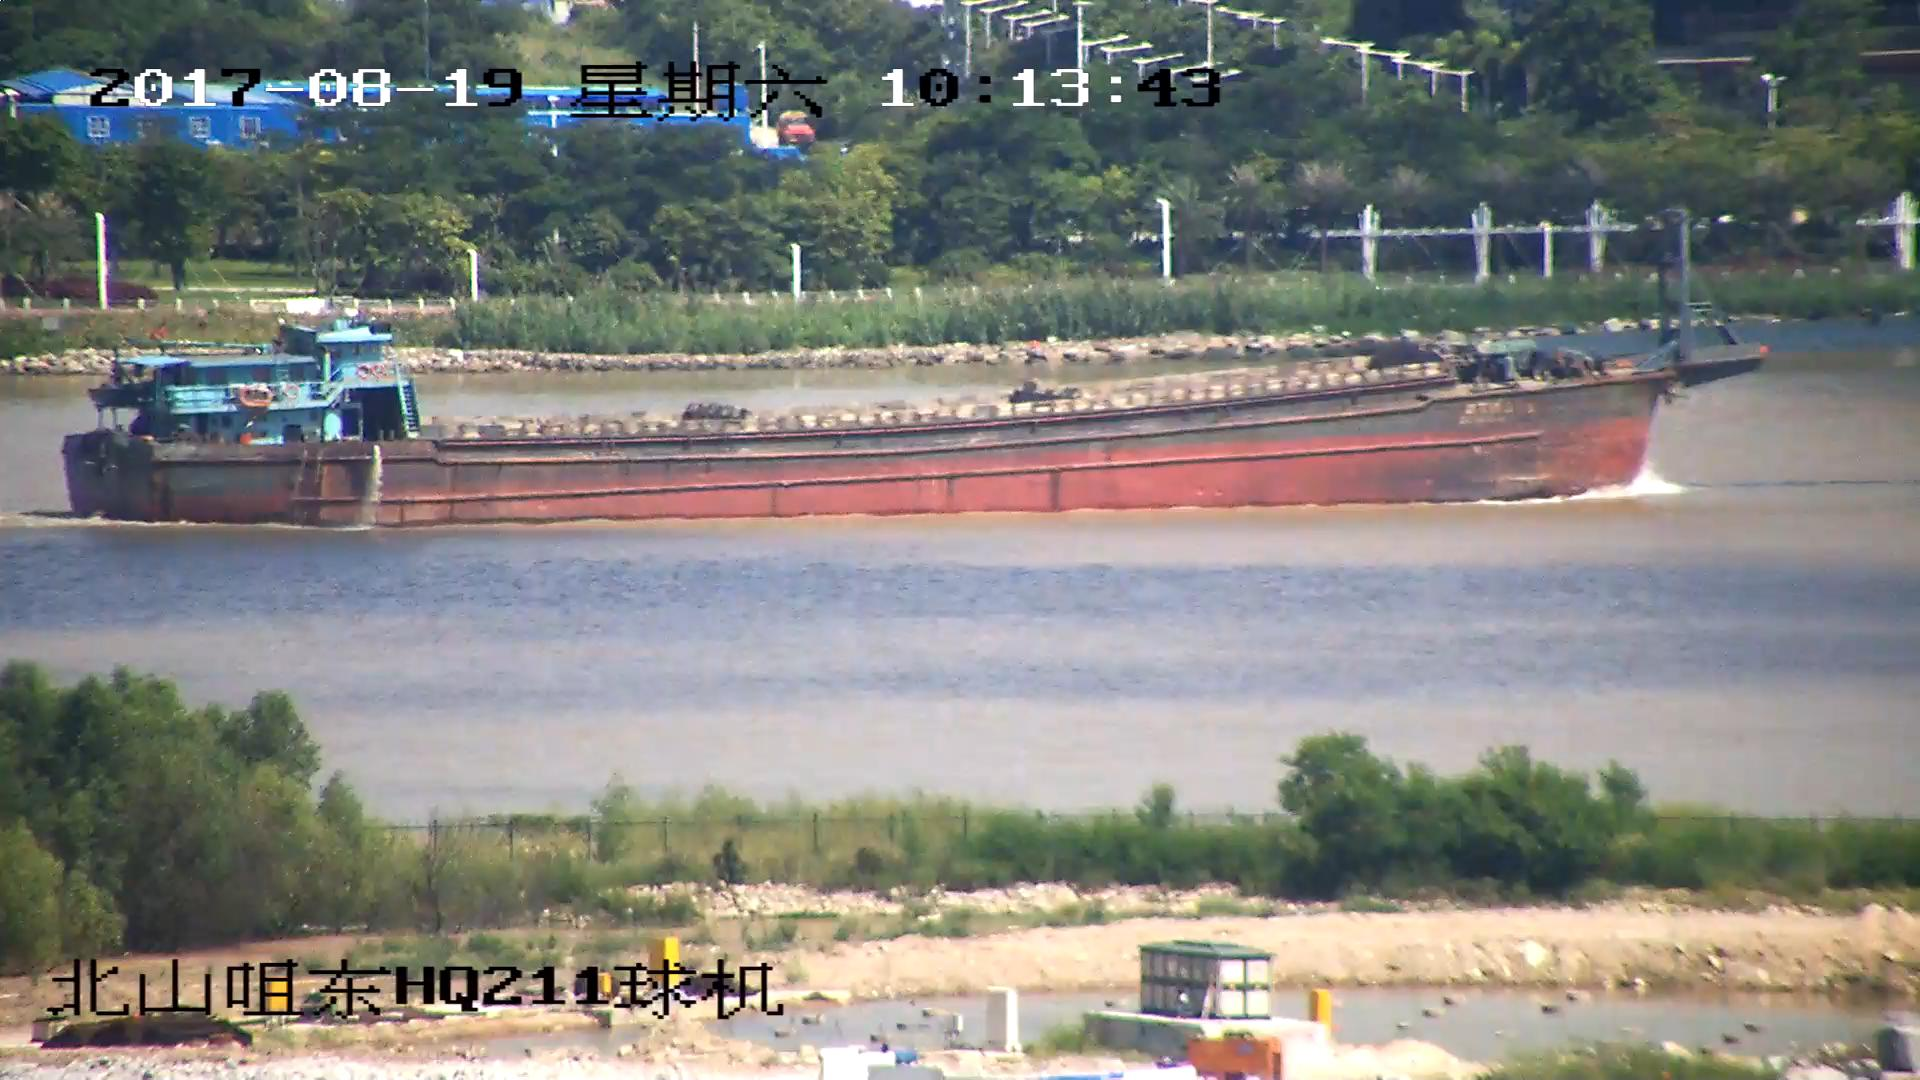bulk cargo carrier: (56, 207, 1920, 531)
